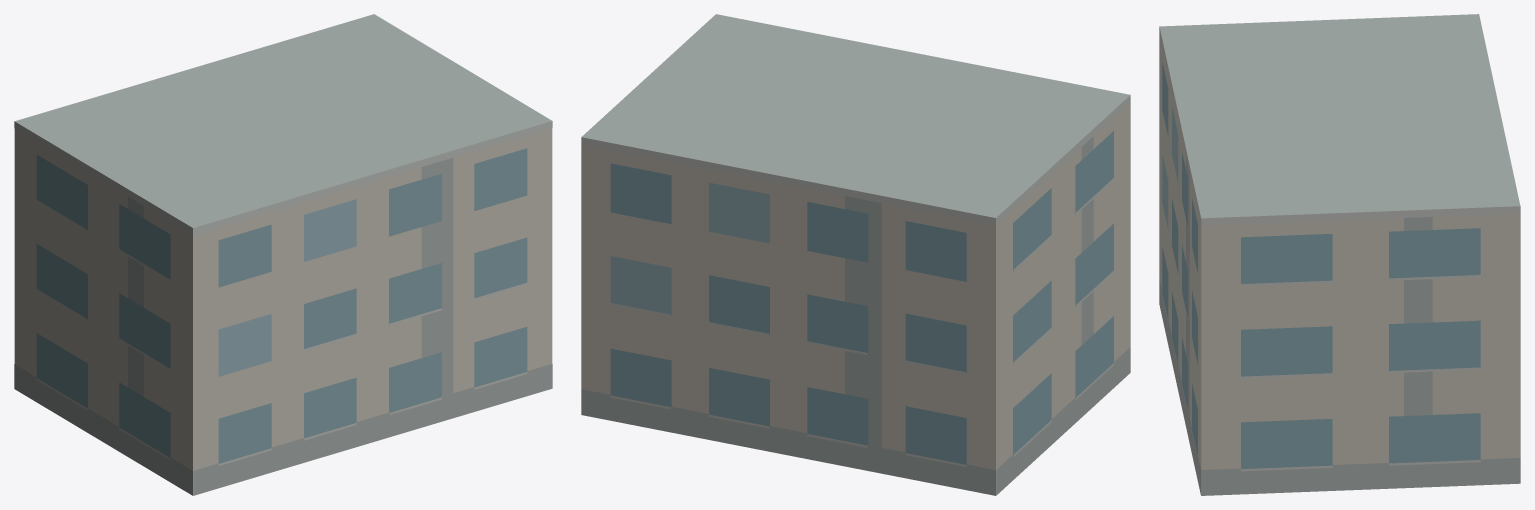
Rendered from residential-458872b3-b90c-41d6-9df2-3eea15ce4bf9.glb.
3 views of the same model, side by side, from view 1: azimuth 30°, elevation 25°; view 2: azimuth 150°, elevation 25°; view 3: azimuth 270°, elevation 25° (orthographic). The views are drawn at different scales.
Visible parts, largest first — view 1: residential-458872b3-b90c-41d6-9df2-3eea15ce4bf9.tmp; view 2: residential-458872b3-b90c-41d6-9df2-3eea15ce4bf9.tmp; view 3: residential-458872b3-b90c-41d6-9df2-3eea15ce4bf9.tmp.
Part boxes in pixels (x1,y1,x2,y2): residential-458872b3-b90c-41d6-9df2-3eea15ce4bf9.tmp: (14, 14, 552, 495); residential-458872b3-b90c-41d6-9df2-3eea15ce4bf9.tmp: (581, 14, 1130, 495); residential-458872b3-b90c-41d6-9df2-3eea15ce4bf9.tmp: (1159, 14, 1520, 495).
Bounding box in the file's own units: 14.46 × 9.15 × 10.8.
